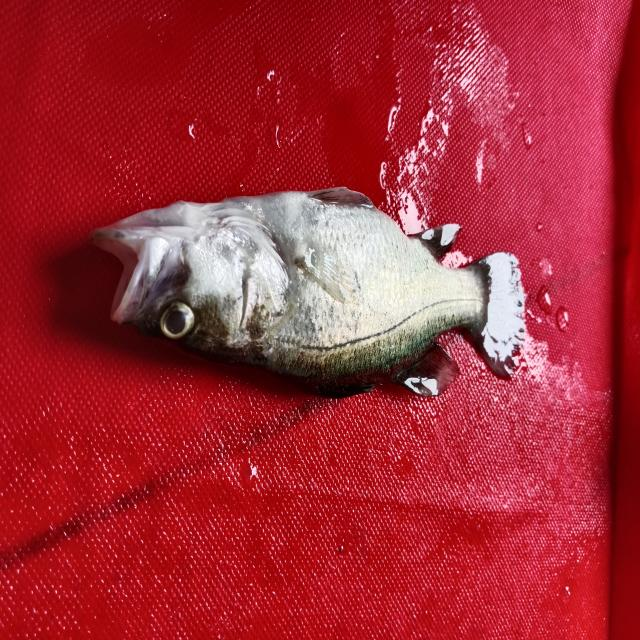ikan: (88, 161, 550, 419)
